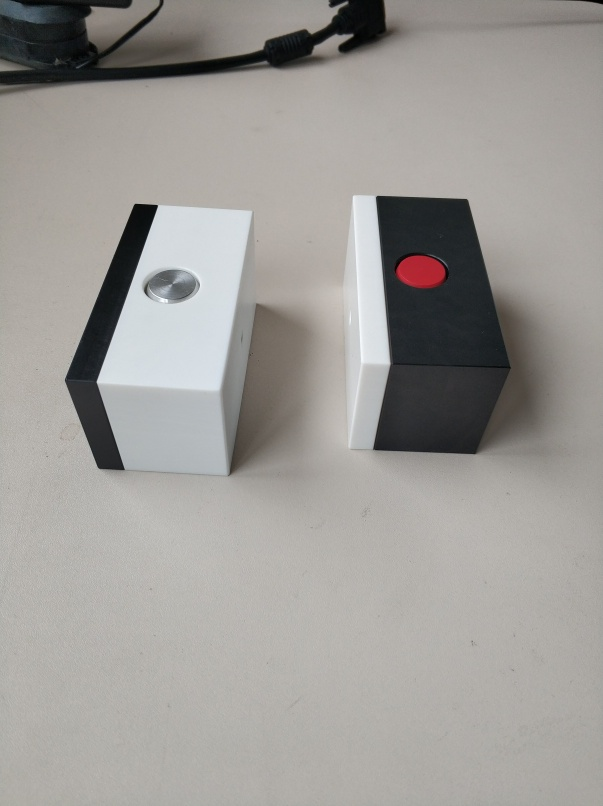black+white+silver: (62, 201, 255, 481)
white+black+red: (338, 192, 518, 458)
